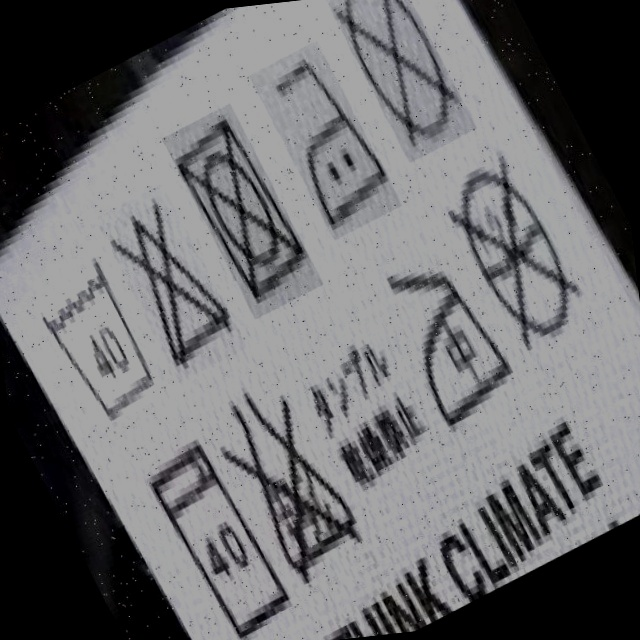40C: (139, 459, 294, 640), (49, 264, 154, 429)
DN_bleach: (129, 205, 235, 375)
DN_dry_clean: (339, 0, 483, 153), (457, 155, 576, 340)
DN_tumble_dry: (176, 115, 287, 284)
iron: (389, 263, 531, 412)
iron_medium: (268, 55, 392, 226)
